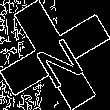N_NW: (25, 23, 85, 87)
